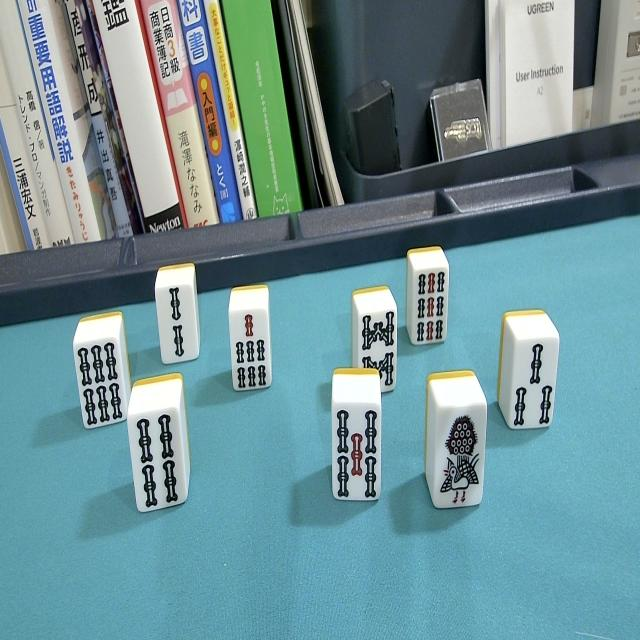1_sou: (424, 368, 489, 524)
2_sou: (153, 263, 202, 370)
3_sou: (496, 308, 560, 440)
4_sou: (125, 373, 191, 523)
5_sou: (328, 367, 384, 512)
6_sou: (72, 314, 131, 435)
7_sou: (228, 284, 274, 398)
8_sou: (350, 286, 399, 394)
9_sou: (405, 244, 453, 354)
